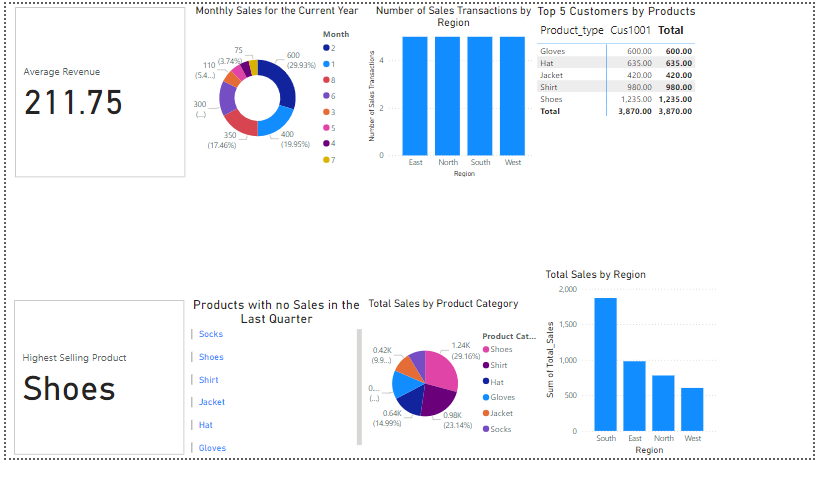

The page's visual inventory and layout, read from the dashboard file:
{"tool":"powerbi","page":{"name":"Page 2","canvas":[1280,720],"ordinal":1},"visuals":[{"type":"cardVisual","fields":{"Data":["SalesData$.Avg Revenue"]},"box":[10,0,280,280],"z":0},{"type":"cardVisual","fields":{"Data":["Min(Highestselling.product_type)"]},"box":[7.9,465.1,281,255.6],"z":1},{"type":"donutChart","title":"Monthly Sales for the Current Year","fields":{"Y":["Sum(Monthlysalesforyear.Totalsales)"],"Category":["Monthlysalesforyear.Month"]},"box":[290.5,0,279.4,279.4],"z":2},{"type":"multiRowCard","title":"Products with no Sales in the Last Quarter","fields":{"Values":["Nosaleslastquarter.Product_type"]},"box":[288.9,465.1,281,255.6],"z":3},{"type":"clusteredColumnChart","fields":{"Category":["SalesbyRegion.Region"],"Y":["Sum(SalesbyRegion.Number_of_Sales_Transactions)"]},"box":[569.8,0,281,279.4],"z":4},{"type":"pieChart","fields":{"Y":["Sum(SalesbyProductCategory.Total_Sales)"],"Category":["SalesbyProductCategory.Product_type"]},"box":[569.8,465.1,281,255.6],"z":5},{"type":"pivotTable","title":"Top 5 Customers by Products ","fields":{"Values":["Sum(TOP5Customers.Totalpurchase)"],"Rows":["TOP5Customers.Product_type"],"Columns":["TOP5Customers.Customerid"]},"box":[838.1,0,281,279.4],"z":6},{"type":"columnChart","title":"Total Sales by Region","fields":{"Category":["TotalsalesbyRegion.Region"],"Y":["Sum(TotalsalesbyRegion.Total_Sales)"]},"box":[850.8,419,281,301.6],"z":7}]}

Visuals, with their boxes on the page's 1280x720 design canvas (x1, y1, x2, y2). These are canvas units, not pixel positions in the 820x496 screenshot, which may show the page scaled, cropped or inside an application window:
cardVisual - SalesData$.Avg Revenue: bbox=(10, 0, 290, 280)
cardVisual - Min(Highestselling.product_type): bbox=(8, 465, 289, 721)
"Monthly Sales for the Current Year" donutChart: bbox=(290, 0, 570, 279)
"Products with no Sales in the Last Quarter" multiRowCard: bbox=(289, 465, 570, 721)
clusteredColumnChart - SalesbyRegion.Region x Sum(SalesbyRegion.Number_of_Sales_Transactions): bbox=(570, 0, 851, 279)
pieChart - Sum(SalesbyProductCategory.Total_Sales) x SalesbyProductCategory.Product_type: bbox=(570, 465, 851, 721)
"Top 5 Customers by Products " pivotTable: bbox=(838, 0, 1119, 279)
"Total Sales by Region" columnChart: bbox=(851, 419, 1132, 721)
